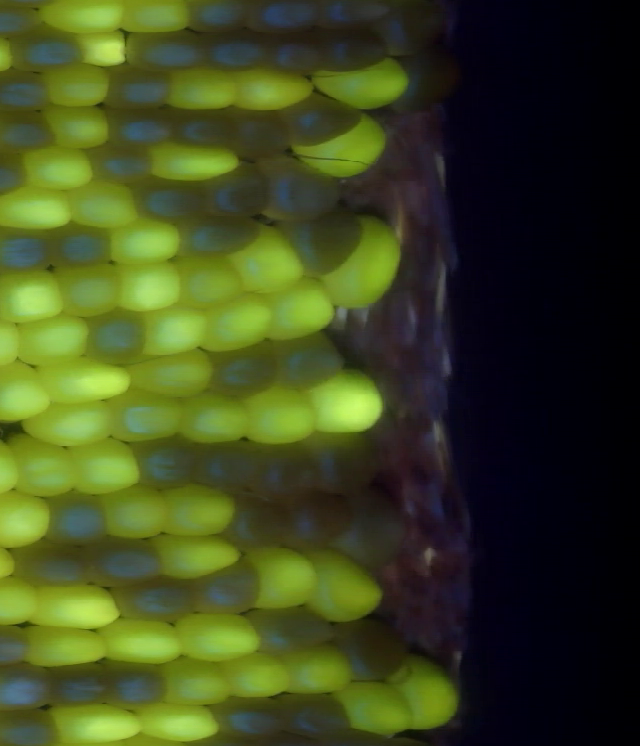fluorescent: (317, 211, 410, 319), (288, 111, 396, 185), (298, 545, 390, 628), (303, 51, 420, 116), (242, 539, 326, 622), (382, 649, 464, 734), (223, 219, 312, 296), (3, 427, 91, 504), (301, 365, 388, 442), (330, 676, 424, 745), (233, 379, 324, 449), (21, 578, 128, 634), (156, 478, 248, 543), (169, 244, 254, 314), (221, 58, 320, 118), (169, 606, 264, 668), (123, 344, 218, 405), (276, 636, 362, 703), (254, 273, 341, 339), (17, 399, 123, 453), (147, 528, 247, 584), (191, 296, 281, 357), (13, 618, 114, 672), (173, 388, 259, 451), (51, 258, 129, 327), (93, 612, 187, 669), (36, 355, 136, 408), (107, 253, 190, 316), (93, 481, 176, 544), (61, 435, 148, 495), (129, 696, 232, 746), (143, 137, 246, 187), (159, 651, 247, 709), (0, 265, 76, 331), (103, 389, 191, 446), (44, 697, 147, 745), (136, 298, 213, 362), (214, 648, 300, 705), (36, 56, 119, 115), (9, 312, 94, 368), (160, 61, 247, 115), (108, 211, 186, 271), (37, 103, 116, 156), (23, 142, 101, 195), (0, 183, 78, 236), (68, 177, 143, 232), (32, 1, 130, 42), (0, 486, 60, 552), (0, 359, 57, 427), (111, 1, 197, 39), (70, 25, 136, 71), (0, 575, 50, 629)
nonfluorescent: (328, 489, 418, 574), (279, 198, 366, 282), (253, 147, 344, 226), (330, 613, 419, 691), (261, 327, 354, 397), (294, 424, 387, 494), (243, 603, 346, 665), (182, 553, 270, 625), (277, 85, 368, 154), (173, 203, 270, 267), (280, 486, 362, 561), (103, 569, 204, 628), (204, 335, 286, 405), (6, 535, 100, 595), (269, 684, 361, 745), (126, 167, 216, 228), (250, 437, 326, 508), (80, 302, 152, 375), (98, 54, 176, 121), (199, 158, 277, 225), (189, 435, 271, 498), (220, 489, 298, 555), (76, 533, 167, 589), (119, 23, 214, 76), (126, 431, 208, 492), (8, 21, 94, 78), (208, 691, 300, 744), (218, 102, 293, 167), (103, 649, 177, 713), (39, 218, 119, 277), (41, 487, 114, 551), (377, 1, 451, 63), (312, 22, 397, 75), (197, 24, 281, 77), (98, 103, 180, 157), (79, 135, 161, 188), (258, 21, 332, 77), (42, 658, 121, 709), (0, 659, 67, 717), (167, 102, 242, 151), (237, 1, 328, 41), (0, 103, 61, 162), (0, 221, 61, 279), (0, 63, 60, 121), (181, 1, 260, 43), (306, 1, 394, 37), (0, 702, 69, 746), (0, 146, 37, 204), (0, 1, 46, 46), (0, 617, 36, 668)
